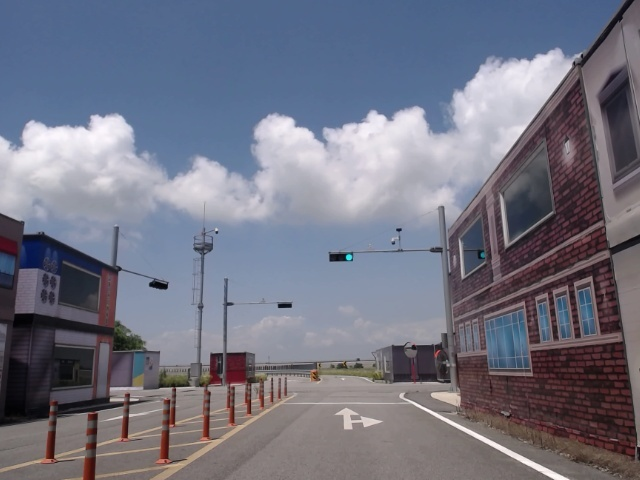green_3: (329, 253, 354, 262)
